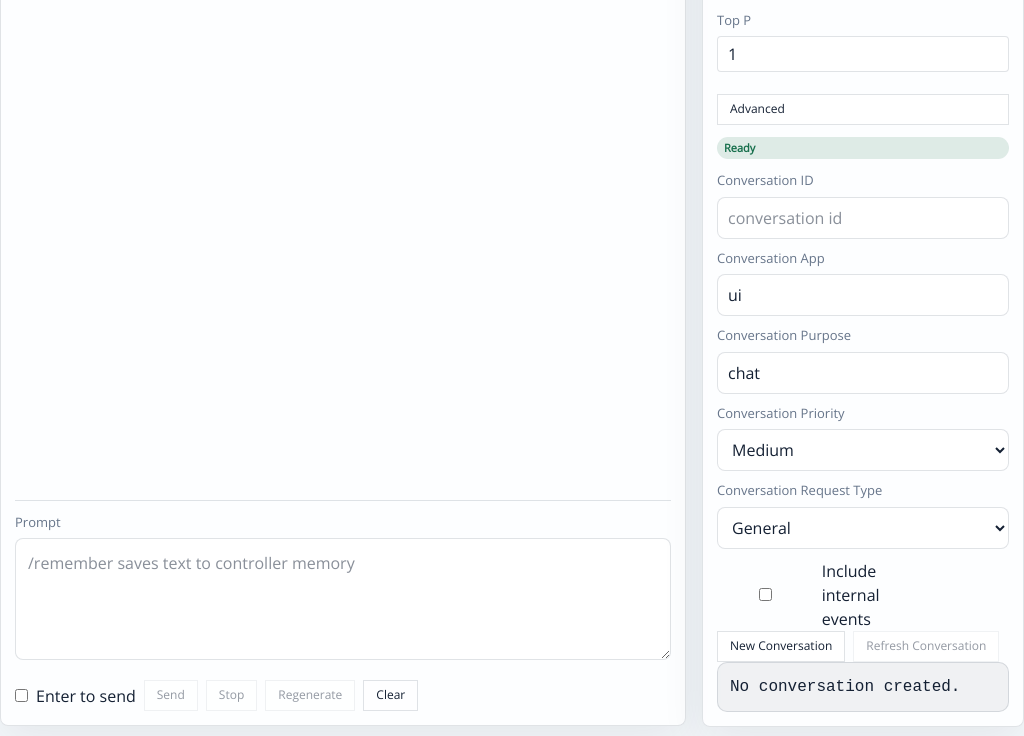
Test case: shows context budget while composing
(page scrolled)
Type "Budget this prompt" into the text box labelled "Prompt" at {"x": 343, "y": 599}, box [15,538,671,660]
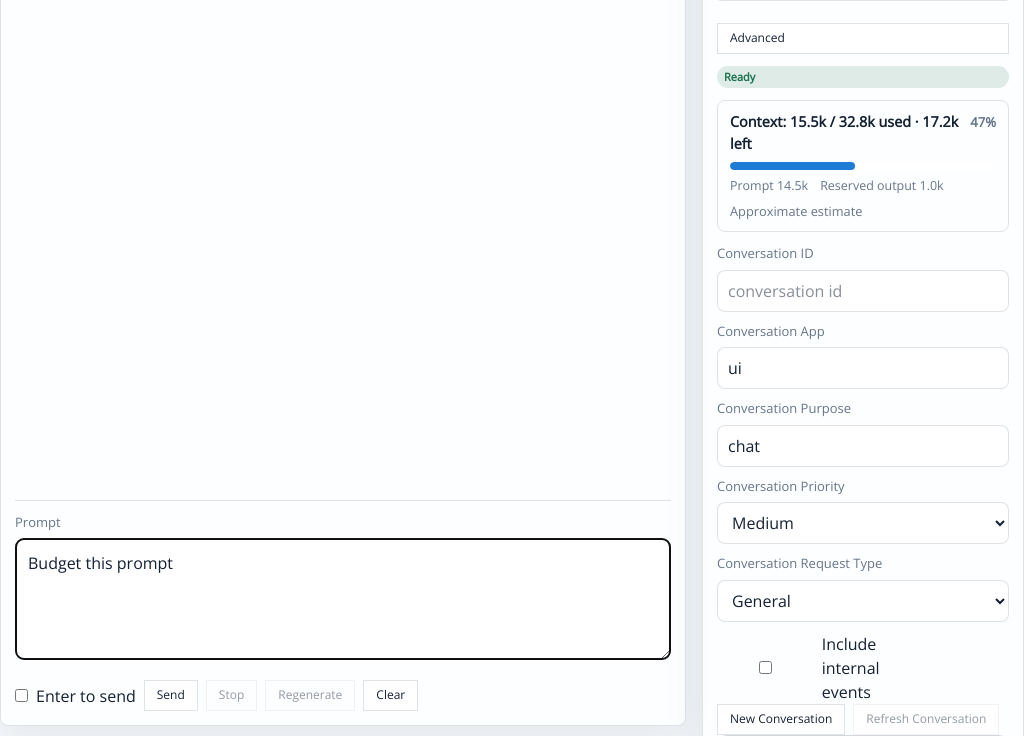
Result: the element with test id "context-budget-summary" shows "Context: 15.5k / 32.8k used" at [730,112,958,153]
Result: the element with test id "context-budget-summary" shows "17.2k left" at [730,112,958,153]
Result: the element with test id "context-budget-summary" shows "47%" at [717,100,1009,232]
